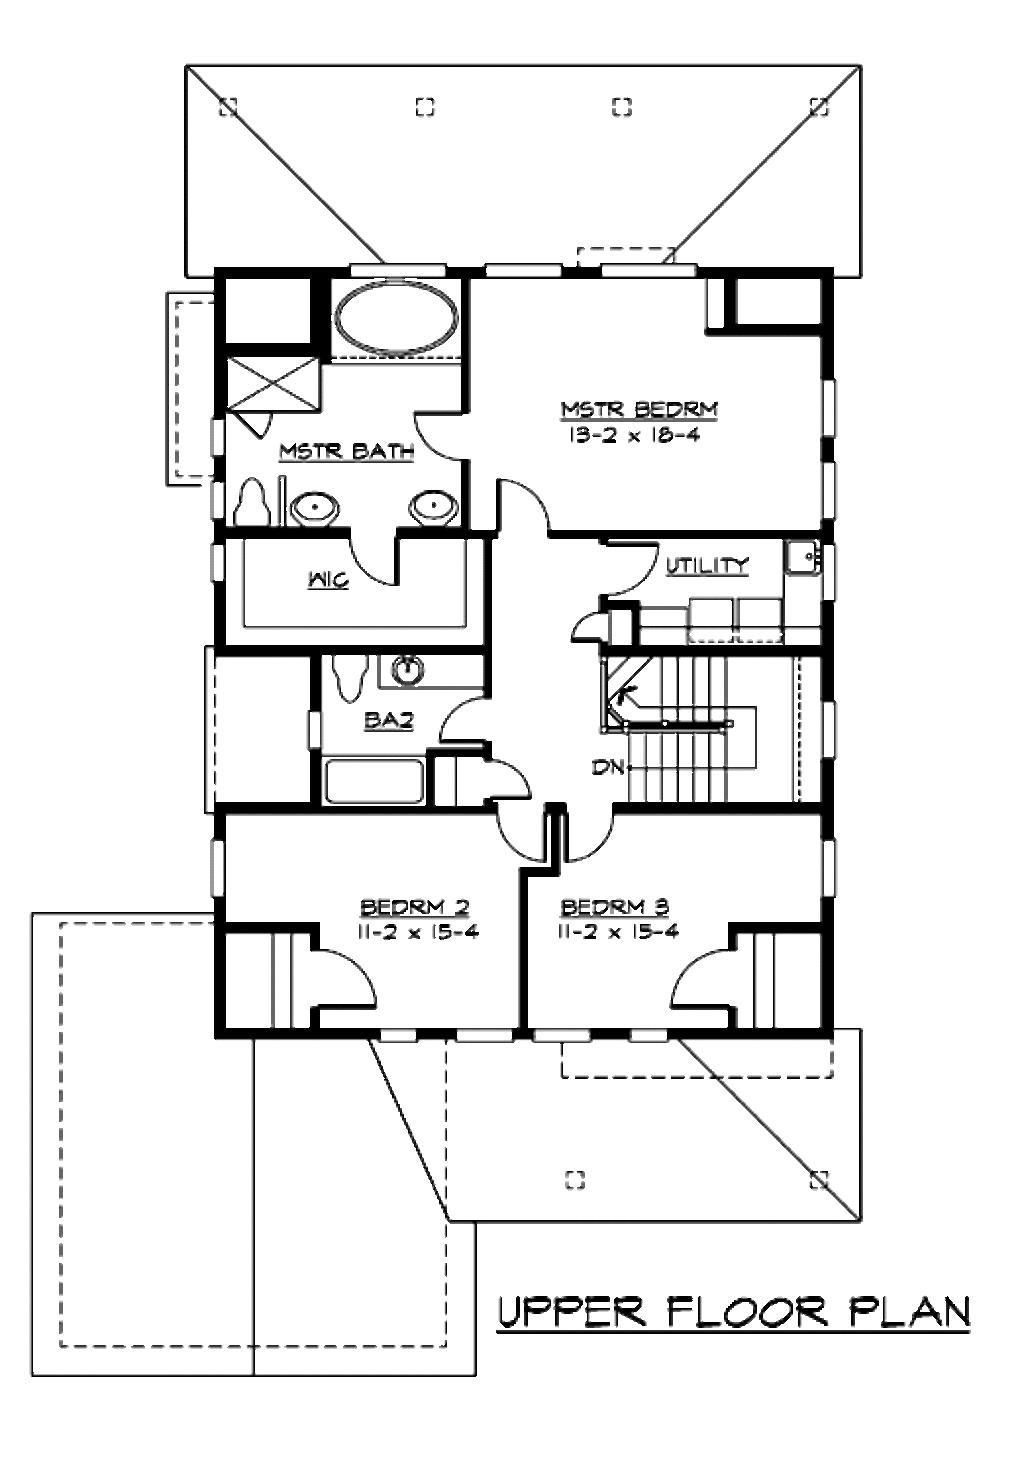door: (383, 393, 499, 472), (658, 924, 742, 1029), (546, 776, 630, 876), (470, 465, 572, 544), (481, 785, 563, 879), (297, 929, 388, 1013), (472, 744, 552, 815), (424, 689, 502, 749), (354, 531, 421, 597), (599, 538, 672, 597)
large_sink: (322, 640, 381, 710), (224, 469, 277, 535)
small_sink: (386, 472, 463, 531), (274, 485, 340, 526)
stairs: (572, 635, 829, 806)
tub: (322, 265, 467, 366), (317, 742, 429, 804)
window: (338, 231, 447, 285), (474, 244, 586, 288), (599, 243, 692, 292)
